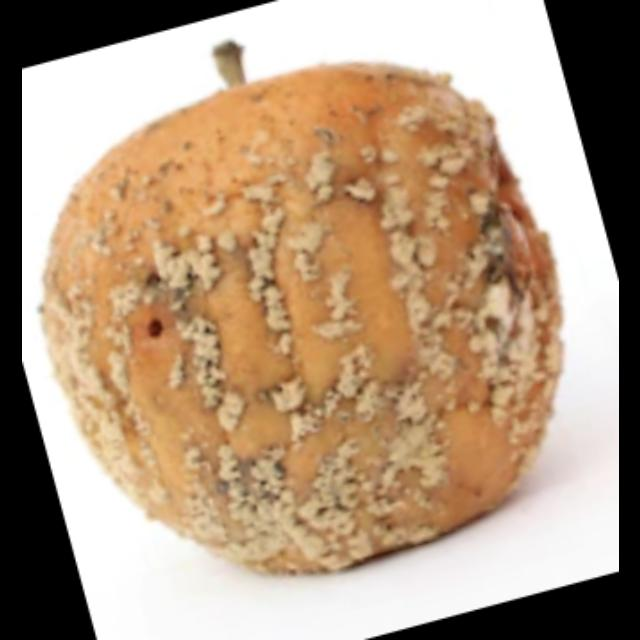Apel Tidak Segar: (28, 31, 576, 590)
